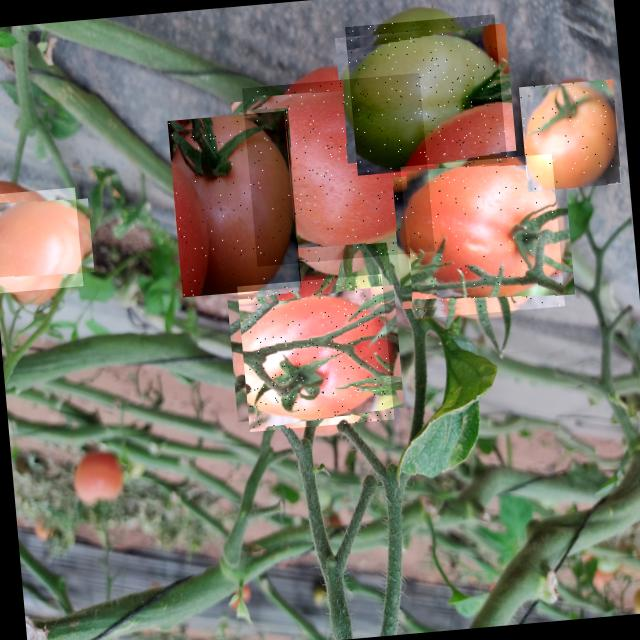Ripe Tomato: (242, 72, 434, 266), (400, 153, 565, 319), (167, 110, 301, 297), (237, 274, 394, 432), (0, 187, 83, 293)
Unripe Tomato: (344, 13, 506, 175), (518, 78, 622, 192)
